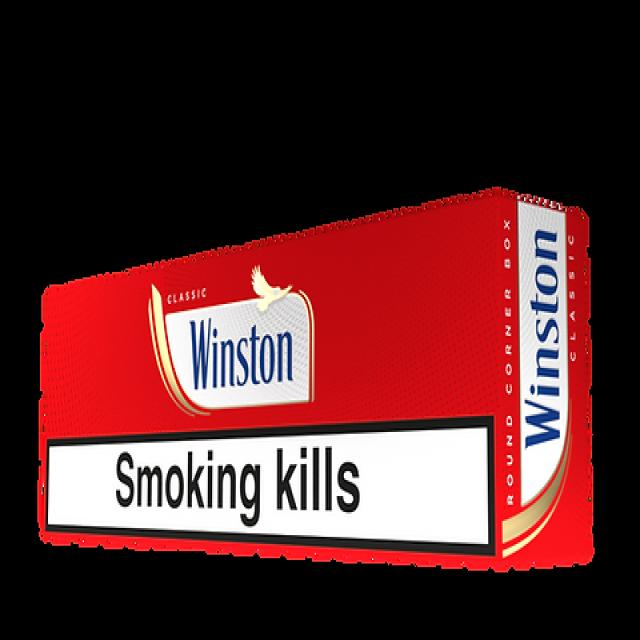winston: (22, 188, 594, 582)
